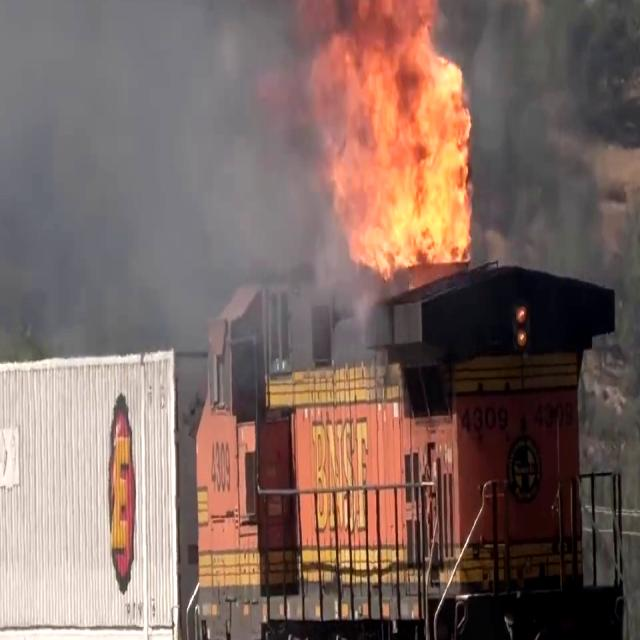fire: (276, 0, 478, 277)
